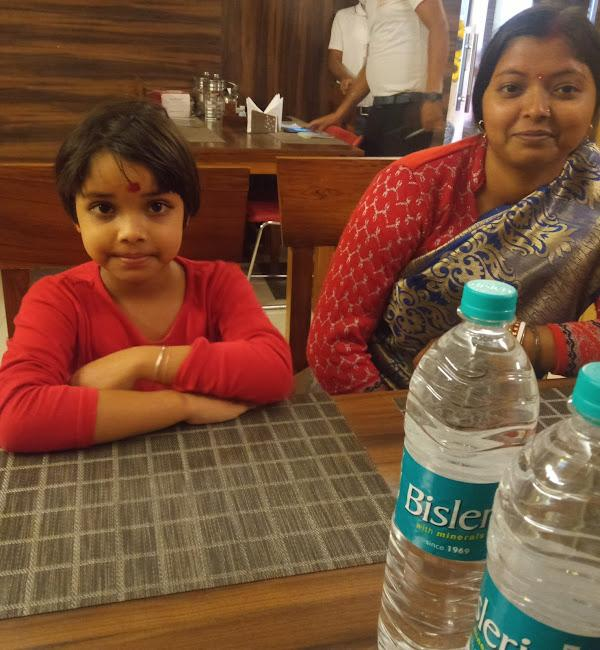plastic_bottle: (374, 272, 542, 650), (477, 344, 600, 650)
